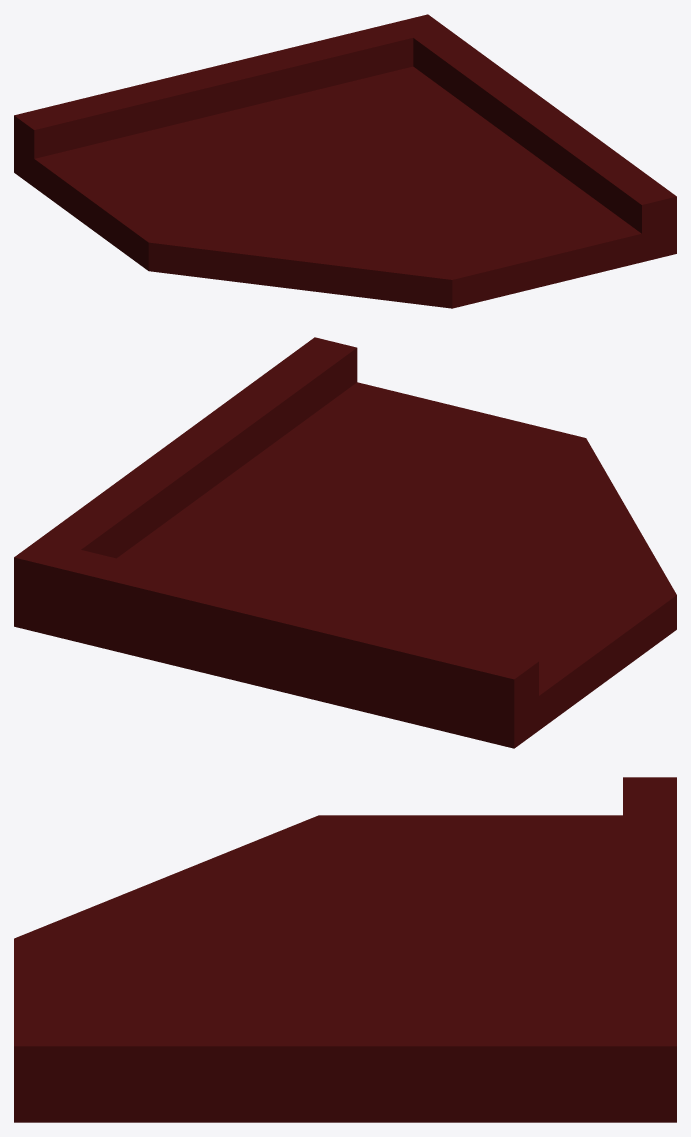
Rendered from Daly65_celing.FBX.
The picture shows the model from 3 angles, top to bottom: view 1: azimuth 30°, elevation 25°; view 2: azimuth 150°, elevation 25°; view 3: azimuth 270°, elevation 25°; orthographic projection. The views are drawn at different scales.
Parts seen in each view (by area): view 1: Daly6.5_celing; view 2: Daly6.5_celing; view 3: Daly6.5_celing.
Part boxes in pixels (x1,y1,x2,y2): Daly6.5_celing: (14, 14, 676, 308); Daly6.5_celing: (14, 337, 676, 748); Daly6.5_celing: (14, 777, 676, 1122).
Bounding box in the file's own units: 6050 × 800 × 6300.
